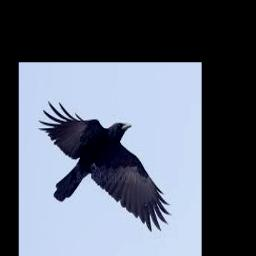Crow: (38, 101, 169, 230)
